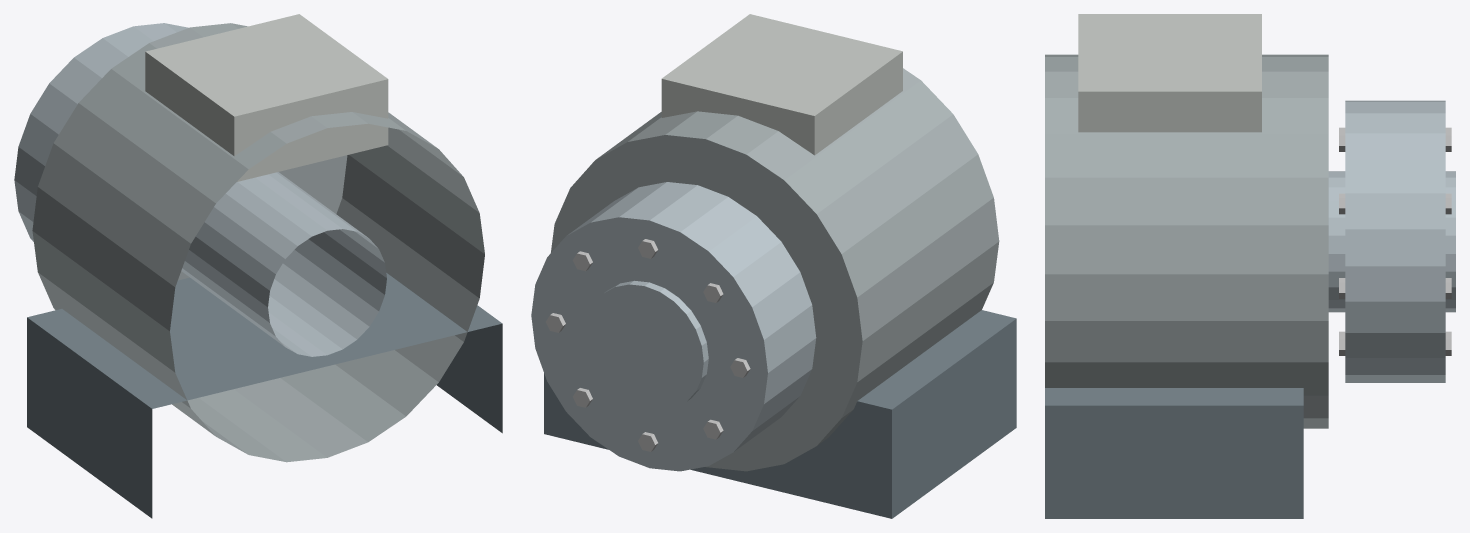
File: cell_92.obj
3 views of the same model, side by side, from view 1: azimuth 30°, elevation 25°; view 2: azimuth 150°, elevation 25°; view 3: azimuth 270°, elevation 25° (orthographic). The views are drawn at different scales.
Bounding box in the file's own units: 1 × 1 × 0.985.
